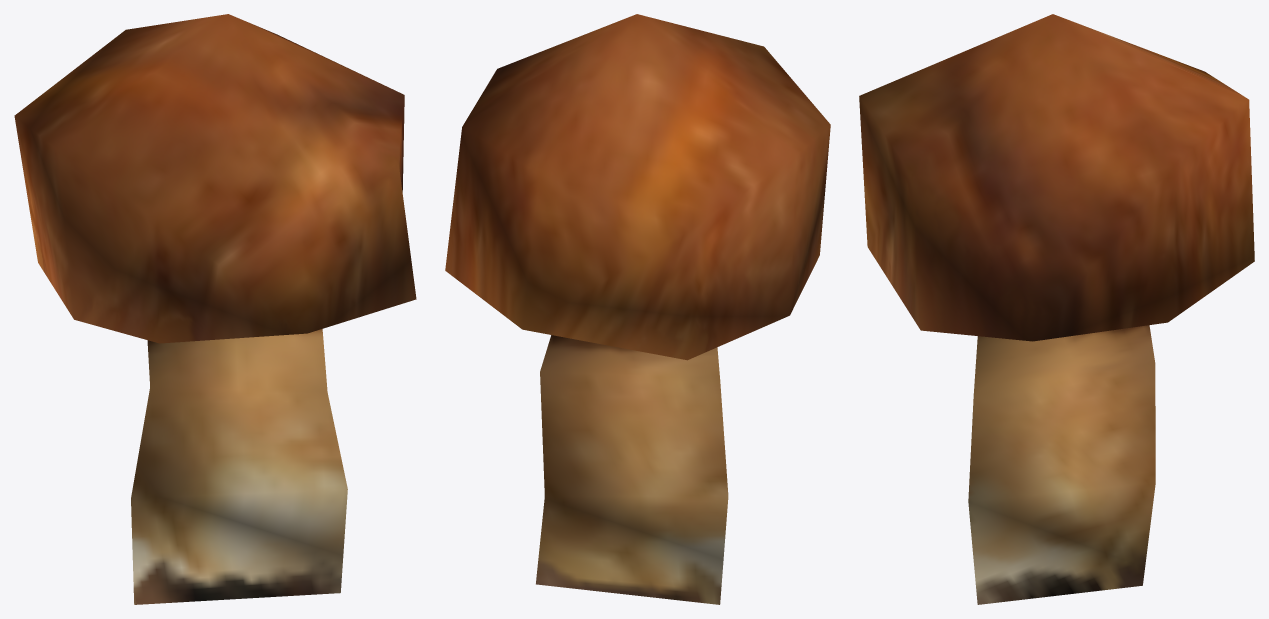
File: Mushroom_09_b.fbx
The picture shows the model from 3 angles, left to right: view 1: azimuth 30°, elevation 25°; view 2: azimuth 150°, elevation 25°; view 3: azimuth 270°, elevation 25°; orthographic projection. The views are drawn at different scales.
Visible parts, largest first — view 1: mushroom_09_b; view 2: mushroom_09_b; view 3: mushroom_09_b.
Part boxes in pixels (left/top/right/bottom): mushroom_09_b: left=14, top=14, right=416, bottom=604; mushroom_09_b: left=445, top=14, right=830, bottom=604; mushroom_09_b: left=859, top=14, right=1254, bottom=604.
Size of the model in its own units: 0.1842 by 0.3066 by 0.1965.
